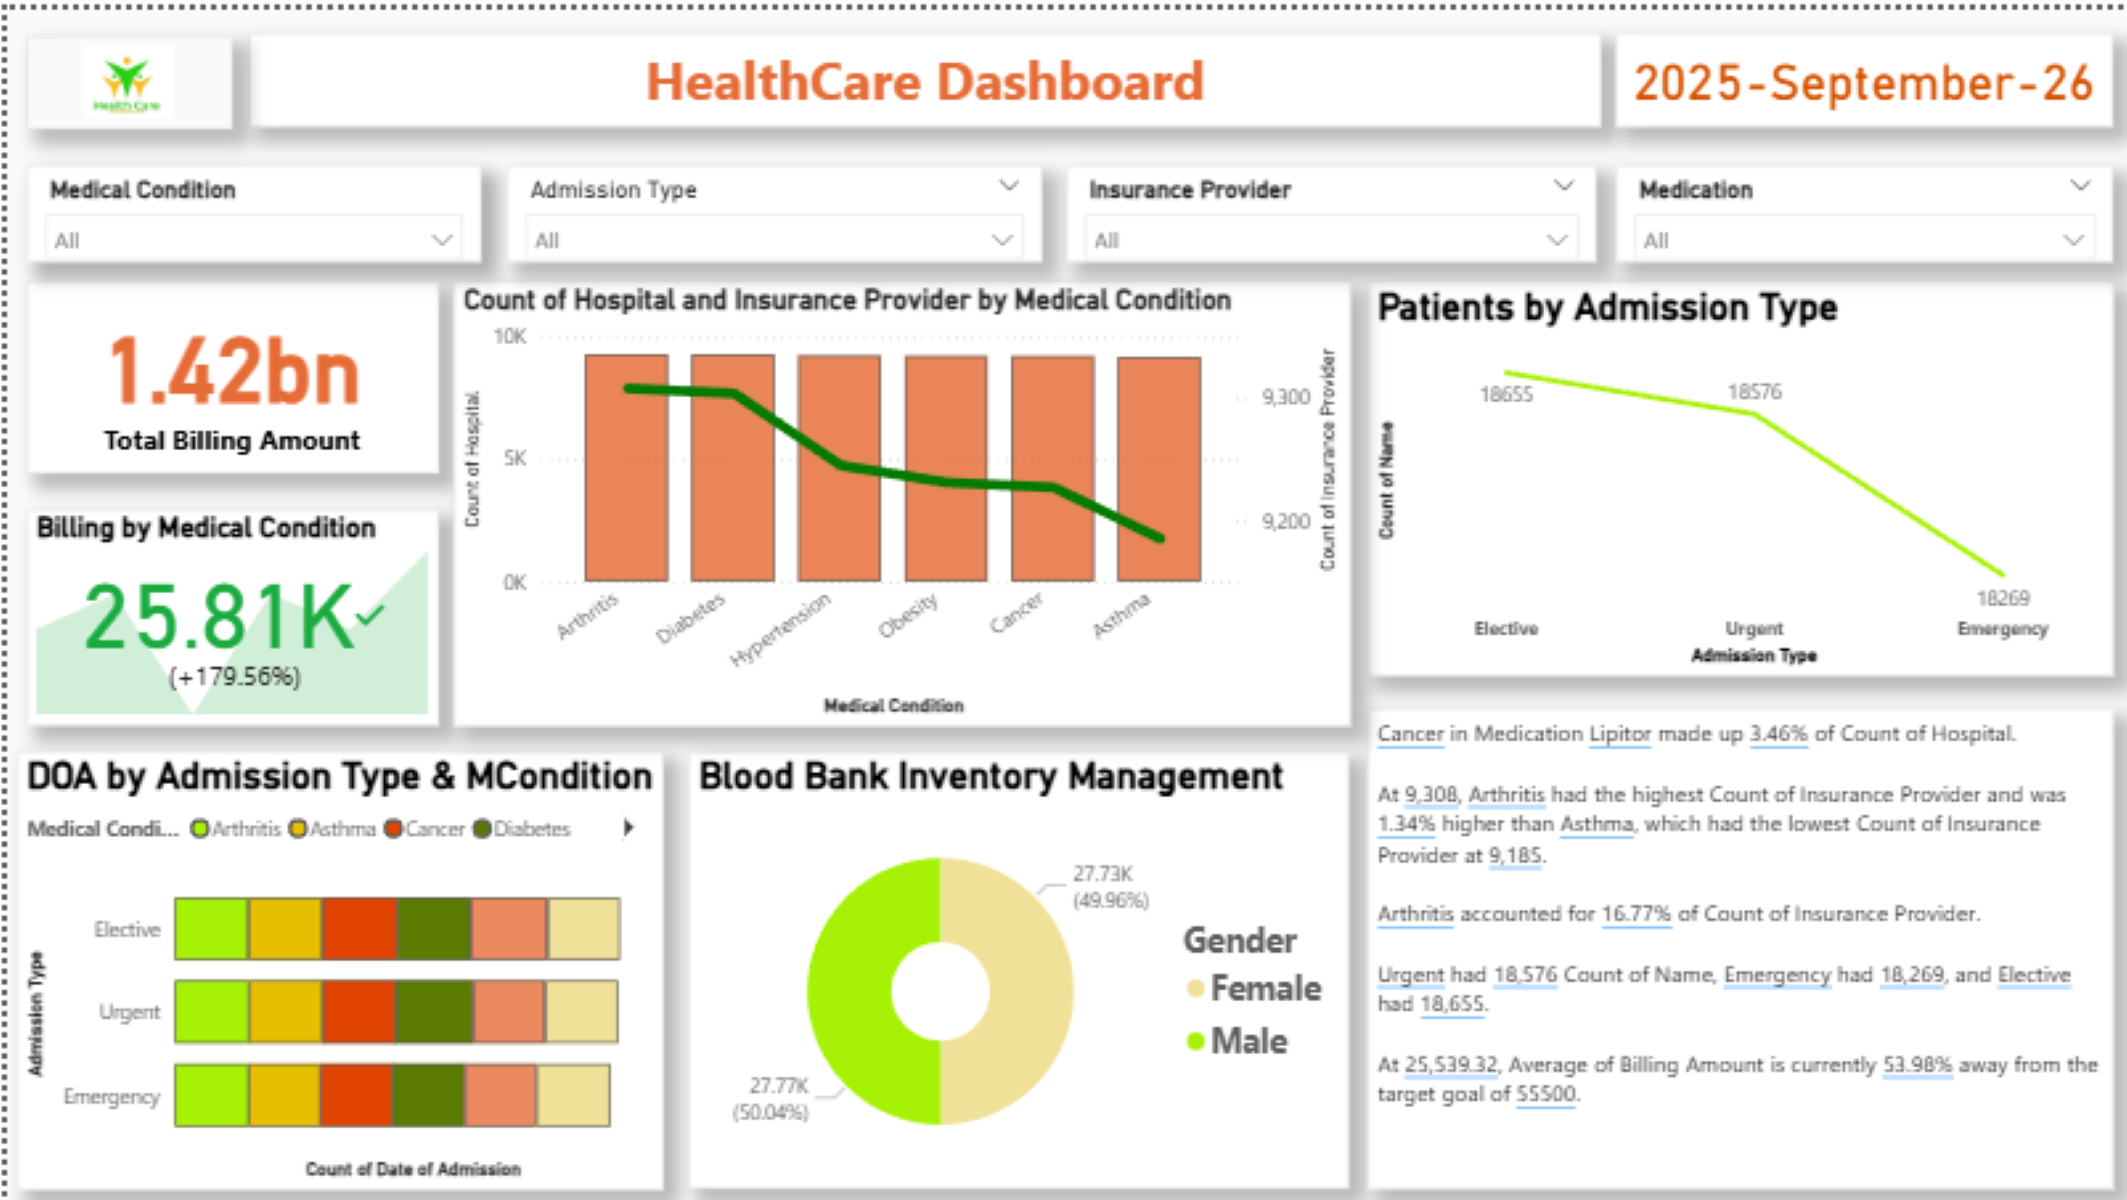

The dashboard page shown, as its layout file describes it:
{"tool":"powerbi","page":{"name":"HealthCare DashBoard","canvas":[1280,720],"ordinal":0},"visuals":[{"type":"textbox","box":[145.7,14.3,817.1,57.1],"z":0},{"type":"card","fields":{"Values":["healthcare_dataset.Date"]},"box":[972.9,14.3,300,57.1],"z":1000},{"type":"image","box":[11.4,15.7,124.3,55.7],"z":2000},{"type":"kpi","title":"Billing by Medical Condition","fields":{"Indicator":["Avg(healthcare_dataset.Billing Amount)"],"TrendLine":["healthcare_dataset.Medical Condition"],"Goal":["CountNonNull(healthcare_dataset.Medication)"]},"box":[11.4,302.9,248.6,130],"z":4000},{"type":"barChart","title":"DOA by Admission Type & MCondition","fields":{"Category":["healthcare_dataset.Admission Type"],"Series":["healthcare_dataset.Medical Condition"],"Y":["CountNonNull(healthcare_dataset.Date of Admission)"]},"box":[6.7,448.3,390,265],"z":6000},{"type":"donutChart","title":"Blood Bank Inventory Management","fields":{"Y":["CountNonNull(healthcare_dataset.Blood Type)"],"Series":["healthcare_dataset.Gender"]},"box":[412.9,448.6,398.6,264.3],"z":8000},{"type":"lineChart","title":"Patients by Admission Type","fields":{"Y":["CountNonNull(healthcare_dataset.Name)"],"Category":["healthcare_dataset.Admission Type"]},"box":[822.9,164.3,450,238.6],"z":9000},{"type":"card","fields":{"Values":["healthcare_dataset.Total Billing Amount"]},"box":[11.4,164.3,248.6,115.7],"z":10000},{"type":"textbox","box":[822.9,422.9,450,290],"z":11000},{"type":"lineClusteredColumnComboChart","title":"Count of Hospital and Insurance Provider by Medical Condition","fields":{"Category":["healthcare_dataset.Medical Condition"],"Y":["CountNonNull(healthcare_dataset.Hospital)"],"Y2":["CountNonNull(healthcare_dataset.Insurance Provider)"]},"box":[270,164.3,541.4,268.6],"z":18001},{"type":"slicer","fields":{"Values":["healthcare_dataset.Medical Condition"]},"box":[11.4,94.3,274.3,58.6],"z":18002},{"type":"slicer","fields":{"Values":["healthcare_dataset.Admission Type"]},"box":[302.9,94.3,322.9,58.6],"z":18003},{"type":"slicer","fields":{"Values":["healthcare_dataset.Insurance Provider"]},"box":[640,94.3,320,58.6],"z":18004},{"type":"slicer","fields":{"Values":["healthcare_dataset.Medication"]},"box":[972.9,94.3,300,58.6],"z":18005}]}

Visuals, with their boxes in screenshot pixels (x1, y1, x2, y2), scaled from the page's 1280x720 canvas onto the 2127x1200 screenshot:
textbox: bbox(242, 24, 1600, 119)
card - healthcare_dataset.Date: bbox(1617, 24, 2115, 119)
image: bbox(19, 26, 225, 119)
"Billing by Medical Condition" kpi: bbox(19, 505, 432, 722)
"DOA by Admission Type & MCondition" barChart: bbox(11, 747, 659, 1189)
"Blood Bank Inventory Management" donutChart: bbox(686, 748, 1348, 1188)
"Patients by Admission Type" lineChart: bbox(1367, 274, 2115, 672)
card - healthcare_dataset.Total Billing Amount: bbox(19, 274, 432, 467)
textbox: bbox(1367, 705, 2115, 1188)
"Count of Hospital and Insurance Provider by Medical Condition" lineClusteredColumnComboChart: bbox(449, 274, 1348, 722)
slicer - healthcare_dataset.Medical Condition: bbox(19, 157, 475, 255)
slicer - healthcare_dataset.Admission Type: bbox(503, 157, 1040, 255)
slicer - healthcare_dataset.Insurance Provider: bbox(1064, 157, 1595, 255)
slicer - healthcare_dataset.Medication: bbox(1617, 157, 2115, 255)
